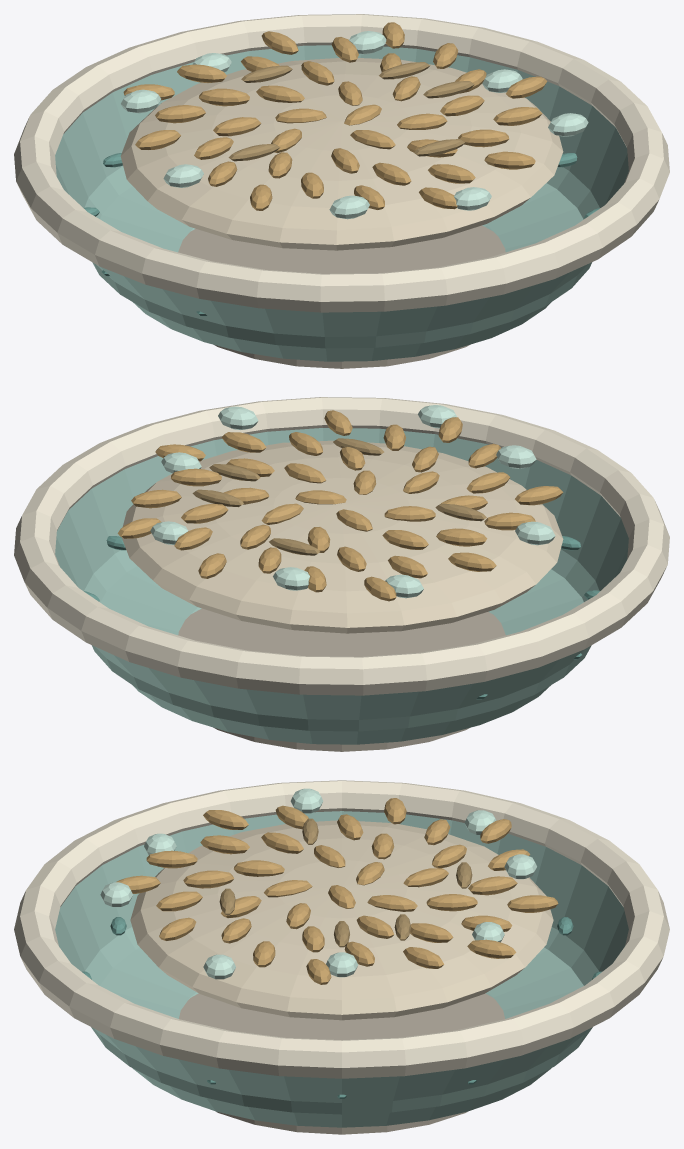
File: washed_millet.glb
3 renders of one model, top to bottom at view 1: azimuth 30°, elevation 25°; view 2: azimuth 150°, elevation 25°; view 3: azimuth 270°, elevation 25°, orthographic.
Parts seen in each view (by area): view 1: millet_celadon_colander_rolled_lip, millet_shallow_wet_grains, millet_celadon_colander_hollow_profile, millet_celadon_colander_foot_ring, millet_water_bead_4, millet_water_bead_7, millet_water_bead_5, millet_water_bead_1, millet_grain_31, millet_grain_14, millet_grain_22, millet_grain_18 (+24 smaller); view 2: millet_celadon_colander_rolled_lip, millet_shallow_wet_grains, millet_celadon_colander_hollow_profile, millet_celadon_colander_foot_ring, millet_water_bead_7, millet_water_bead_4, millet_water_bead_5, millet_grain_21, millet_grain_17, millet_grain_29, millet_water_bead_6, millet_grain_33 (+28 smaller); view 3: millet_celadon_colander_rolled_lip, millet_shallow_wet_grains, millet_celadon_colander_hollow_profile, millet_celadon_colander_foot_ring, millet_grain_28, millet_grain_15, millet_grain_32, millet_grain_11, millet_grain_19, millet_grain_20, millet_grain_7, millet_grain_37 (+19 smaller).
Boxes of the visible parts, bbox=[...] form: millet_celadon_colander_rolled_lip: bbox=[14, 14, 669, 312]; millet_shallow_wet_grains: bbox=[120, 58, 563, 250]; millet_celadon_colander_hollow_profile: bbox=[55, 45, 628, 361]; millet_celadon_colander_foot_ring: bbox=[178, 225, 505, 368]; millet_water_bead_4: bbox=[163, 164, 203, 187]; millet_water_bead_7: bbox=[329, 195, 369, 219]; millet_water_bead_5: bbox=[548, 113, 588, 136]; millet_water_bead_1: bbox=[121, 89, 160, 113]; millet_grain_31: bbox=[484, 151, 535, 169]; millet_grain_14: bbox=[199, 88, 249, 106]; millet_grain_22: bbox=[155, 105, 205, 123]; millet_grain_18: bbox=[458, 129, 509, 147]; millet_celadon_colander_rolled_lip: bbox=[14, 397, 669, 695]; millet_shallow_wet_grains: bbox=[121, 440, 563, 633]; millet_celadon_colander_hollow_profile: bbox=[55, 428, 628, 744]; millet_celadon_colander_foot_ring: bbox=[178, 608, 505, 751]; millet_water_bead_7: bbox=[496, 445, 536, 468]; millet_water_bead_4: bbox=[515, 521, 555, 545]; millet_water_bead_5: bbox=[218, 406, 258, 429]; millet_grain_21: bbox=[171, 468, 221, 486]; millet_grain_17: bbox=[436, 528, 487, 546]; millet_grain_29: bbox=[131, 489, 181, 508]; millet_water_bead_6: bbox=[273, 567, 309, 590]; millet_grain_33: bbox=[515, 486, 563, 505]; millet_celadon_colander_rolled_lip: bbox=[14, 780, 669, 1078]; millet_shallow_wet_grains: bbox=[130, 820, 553, 1020]; millet_celadon_colander_hollow_profile: bbox=[55, 811, 628, 1127]; millet_celadon_colander_foot_ring: bbox=[179, 993, 504, 1134]; millet_grain_28: bbox=[146, 850, 197, 868]; millet_grain_15: bbox=[183, 870, 234, 888]; millet_grain_32: bbox=[507, 895, 558, 912]; millet_grain_11: bbox=[426, 894, 477, 911]; millet_grain_19: bbox=[468, 876, 517, 895]; millet_grain_20: bbox=[200, 835, 249, 854]; millet_grain_7: bbox=[234, 860, 284, 876]; millet_grain_37: bbox=[467, 939, 516, 958].
Size of the model in its own units: 0.6385 by 0.198 by 0.6385.
